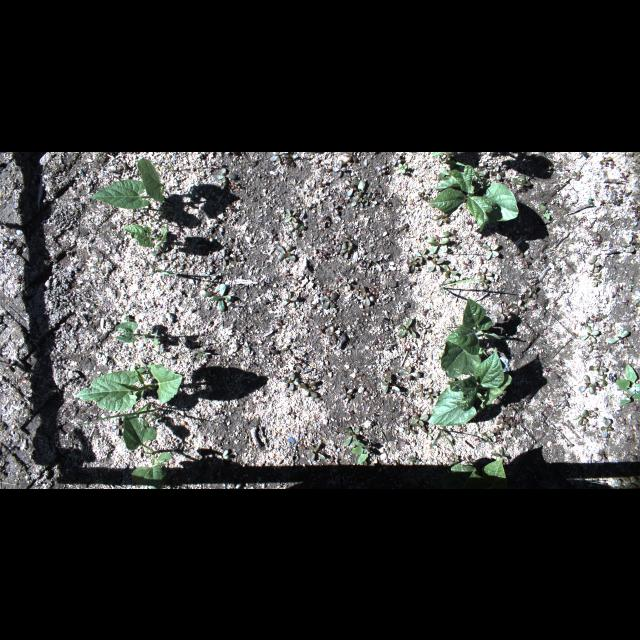crop: (428, 344, 512, 426), (424, 164, 520, 232), (70, 362, 184, 414), (440, 294, 496, 378), (434, 457, 510, 488), (86, 178, 152, 210), (134, 157, 174, 206), (128, 450, 174, 488), (122, 412, 158, 454), (110, 320, 162, 348), (120, 223, 168, 249), (143, 252, 183, 276), (431, 152, 447, 156)
weed: (341, 178, 381, 208), (200, 278, 234, 312), (614, 363, 640, 405), (334, 230, 360, 260), (496, 403, 524, 429), (426, 228, 452, 254), (280, 368, 304, 392), (212, 165, 242, 183), (306, 440, 328, 464), (350, 439, 372, 463), (396, 316, 418, 340), (343, 424, 363, 450), (356, 282, 376, 308), (268, 152, 300, 168), (380, 374, 402, 396), (578, 372, 598, 396), (578, 324, 602, 344), (300, 378, 320, 400), (318, 290, 340, 310), (276, 243, 298, 263), (398, 364, 422, 382), (286, 221, 310, 239), (571, 408, 589, 432), (588, 358, 610, 376), (620, 232, 638, 254), (607, 328, 631, 344), (323, 324, 343, 342), (441, 262, 461, 280), (481, 242, 501, 260), (508, 298, 528, 316), (426, 255, 444, 273), (279, 291, 297, 309), (414, 247, 431, 266), (406, 412, 429, 426), (332, 158, 348, 178), (216, 246, 230, 268), (600, 415, 614, 437), (422, 387, 438, 405), (282, 206, 298, 224), (477, 266, 495, 282), (493, 305, 511, 321), (478, 158, 494, 176), (512, 173, 532, 187), (432, 212, 452, 225), (524, 283, 540, 299), (490, 164, 506, 180), (510, 244, 526, 260), (491, 446, 509, 460), (538, 204, 552, 222), (478, 431, 496, 444), (338, 386, 354, 400), (415, 382, 429, 398), (406, 450, 422, 464), (196, 270, 218, 280), (588, 254, 600, 272), (407, 252, 419, 268), (592, 272, 604, 288), (342, 152, 361, 162), (391, 152, 404, 166), (216, 448, 230, 460), (374, 164, 388, 176), (624, 476, 638, 488), (400, 412, 410, 428), (598, 372, 608, 388), (396, 162, 409, 174), (582, 316, 594, 328), (589, 407, 599, 419), (613, 479, 625, 489)
